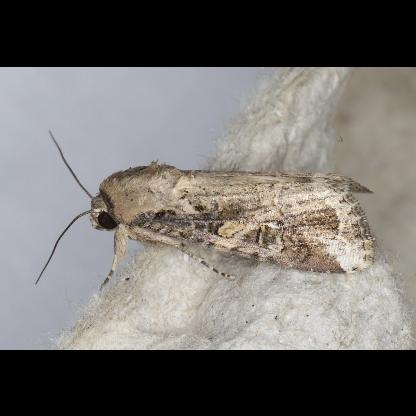Fall Armyworm Moth: (32, 126, 378, 294)
